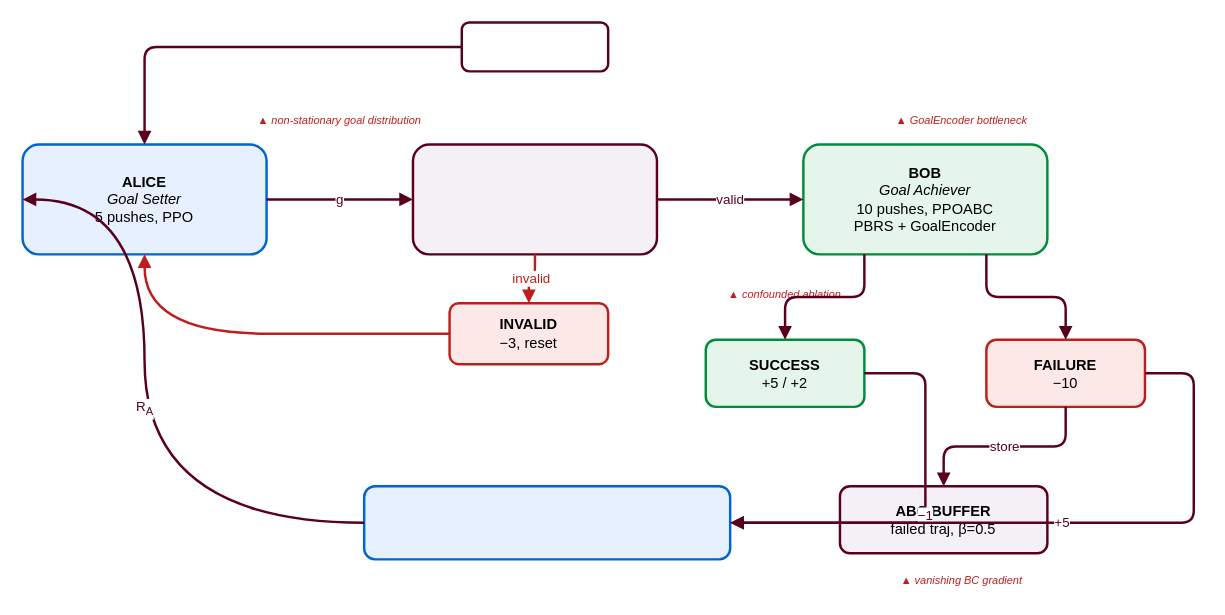
Some shapes in this 1225 by 615 pixel diagram are drawn without their labels. Here are the shapes that lost their labels. From the top down, the box of each, then its label:
(460, 21, 609, 72): Init s₀
(411, 143, 658, 255): GOAL VALIDATION valid / shallow OOB / airborne
(362, 484, 731, 560): ALICE OUTCOME ASP: +5 fail / −1 win TASP: γ·max(0, tB−tA)
